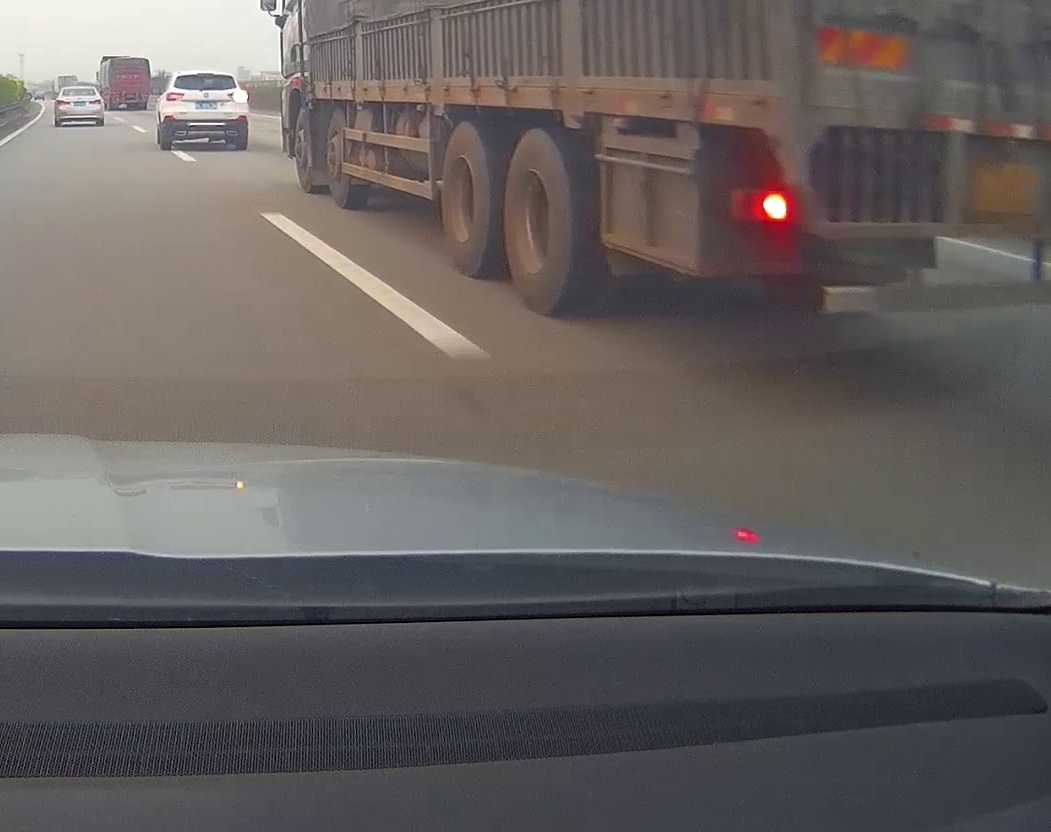L_light: (166, 93, 184, 100), (56, 99, 70, 105)
R_light: (228, 91, 247, 102), (89, 98, 102, 104)
T_light: (197, 73, 212, 76), (76, 88, 84, 91)
day-no: (55, 86, 104, 126)
day-right: (161, 70, 249, 150)
